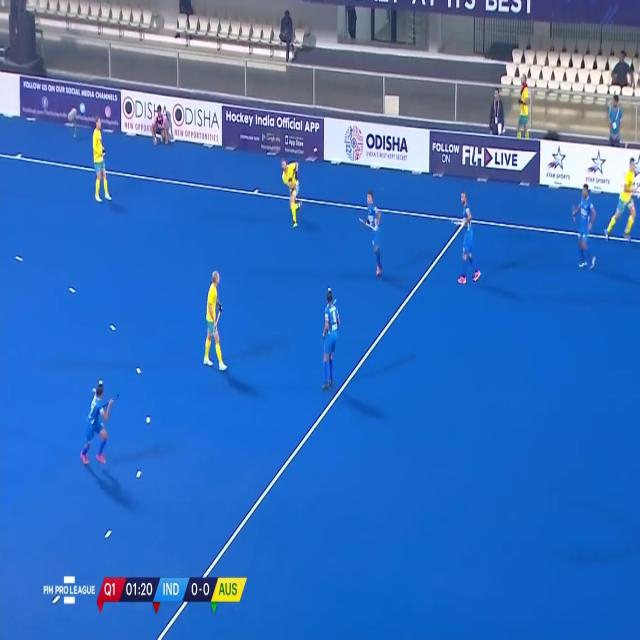ball: (312, 147, 318, 155)
